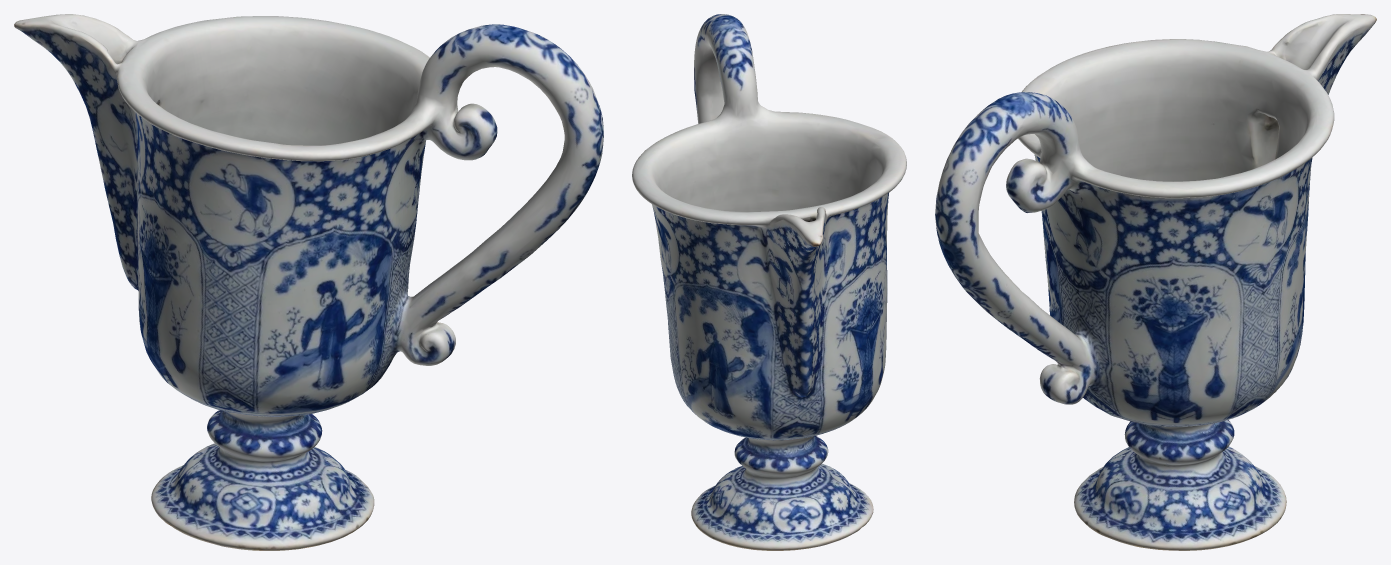
Rendered from si-delft-ewer.glb.
3 renders of one model, left to right at view 1: azimuth 30°, elevation 25°; view 2: azimuth 150°, elevation 25°; view 3: azimuth 270°, elevation 25°, orthographic. The views are drawn at different scales.
Visible parts, largest first — view 1: sourced_fit; view 2: sourced_fit; view 3: sourced_fit.
Boxes of the visible parts, x1,y1,x2,y2 form: sourced_fit: [14, 14, 603, 550]; sourced_fit: [632, 14, 906, 550]; sourced_fit: [935, 14, 1376, 550].
Size of the model in its own units: 0.1753 by 0.23 by 0.1907.
1 material, 1 textured.
